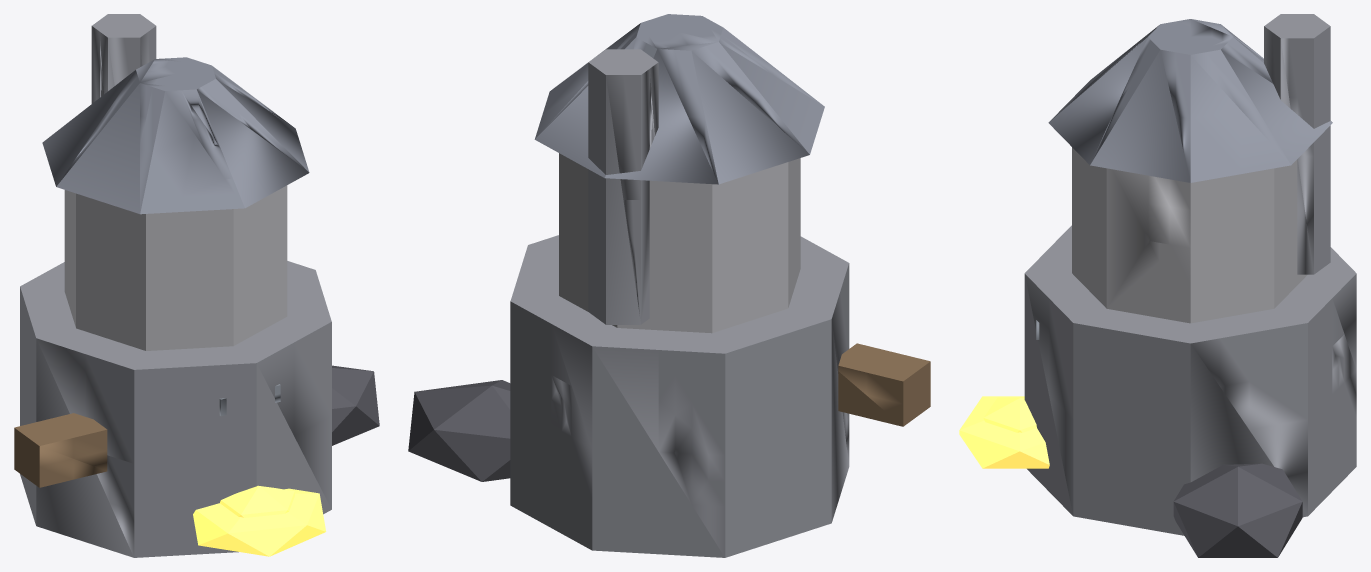
File: smelter.glb
The picture shows the model from 3 angles, left to right: view 1: azimuth 30°, elevation 25°; view 2: azimuth 150°, elevation 25°; view 3: azimuth 270°, elevation 25°; orthographic projection. The views are drawn at different scales.
Visible parts, largest first — view 1: SmelterBase; view 2: SmelterBase; view 3: SmelterBase.
Part boxes in pixels (bbox=[...]): SmelterBase: bbox=[14, 14, 379, 557]; SmelterBase: bbox=[408, 14, 930, 557]; SmelterBase: bbox=[959, 14, 1356, 557].
Size of the model in its own units: 2.03 by 2.1 by 1.68.
